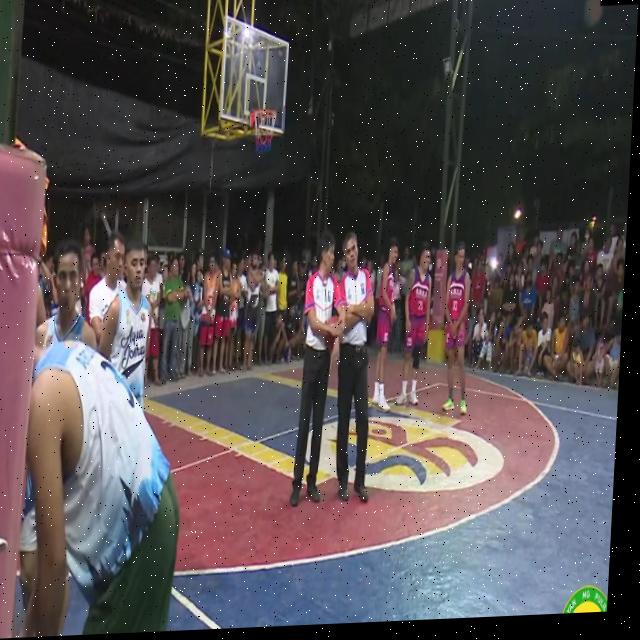basketball: (323, 309, 343, 351)
hoop: (247, 104, 280, 161)
